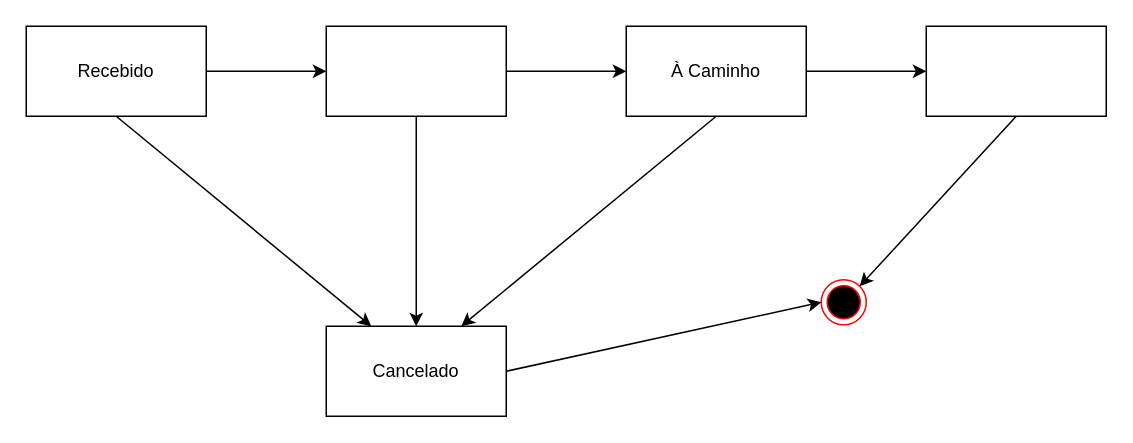
This 1133x443 diagram has some shape labels left out. Here are the shapes that lost their labels. From the top down, the centre of each, then its label:
pixel 415 70: Em Preparação
pixel 1015 70: Entregue
